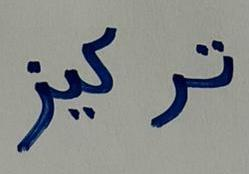kaf: (90, 13, 126, 102)
reh: (142, 58, 191, 137)
teh: (193, 30, 239, 106)
yeh: (59, 61, 89, 128)
zain: (9, 40, 59, 161)
